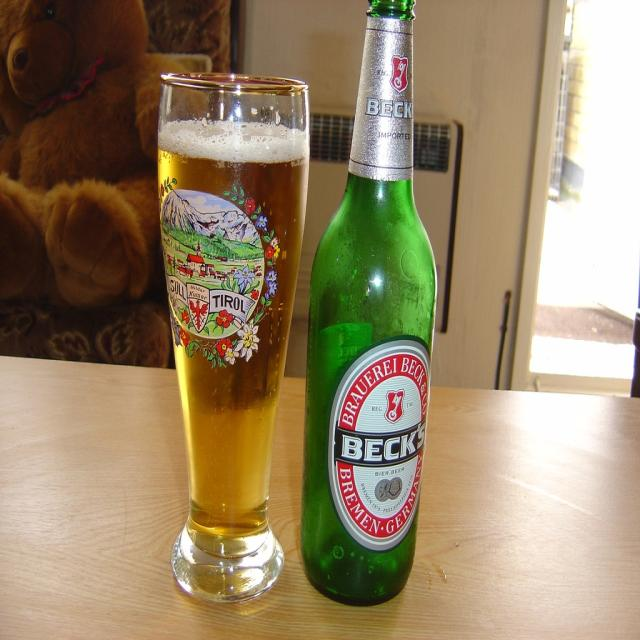becks: (329, 339, 431, 552)
